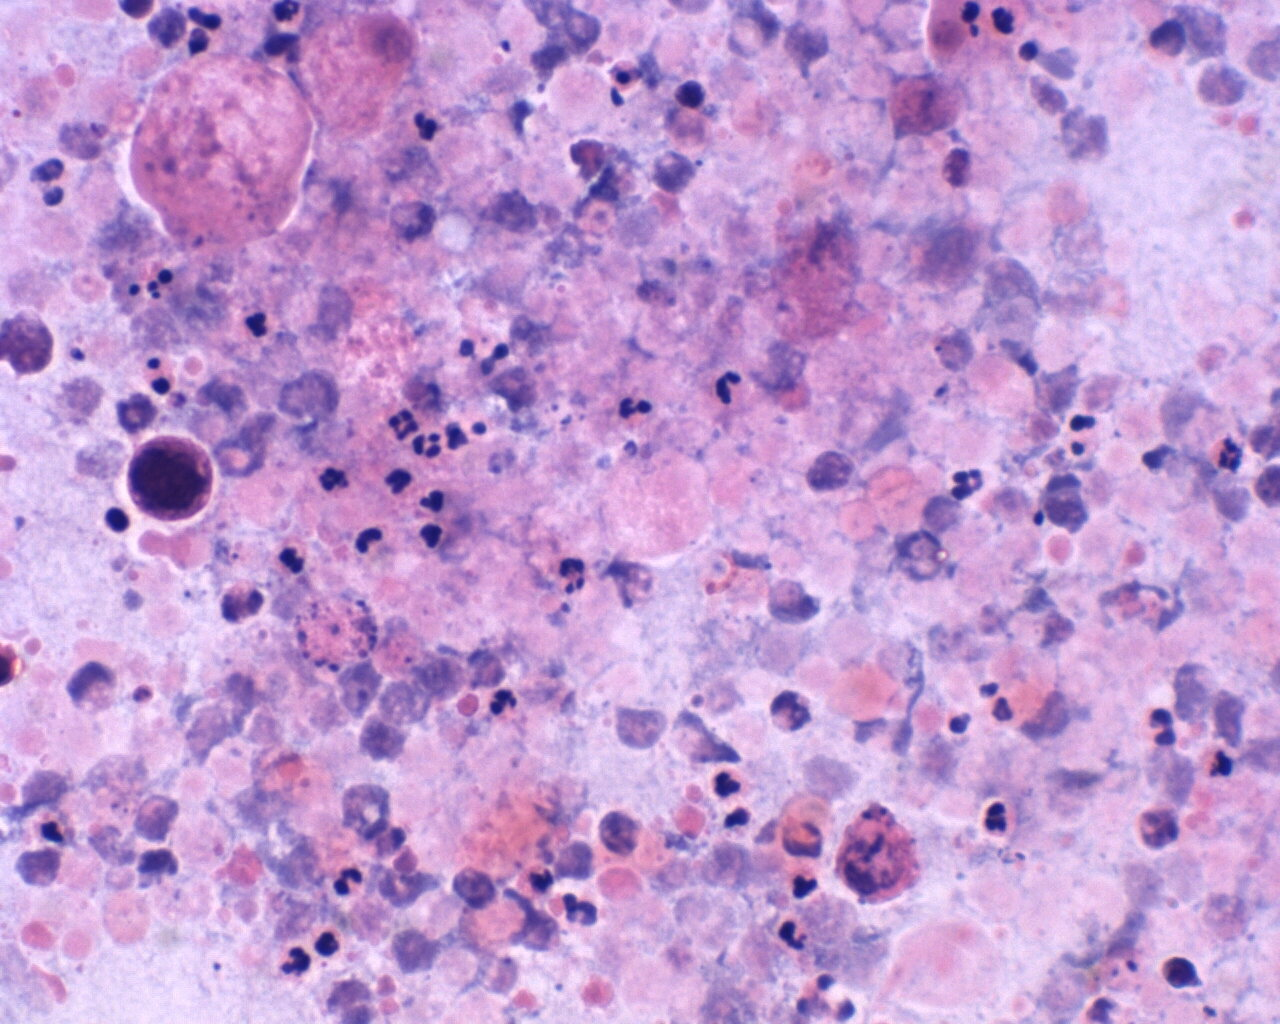ab: (126, 436, 213, 530)
neutro: (706, 363, 752, 409), (380, 404, 422, 445), (346, 518, 387, 556), (977, 797, 1013, 839), (613, 387, 653, 423), (331, 862, 365, 905)
